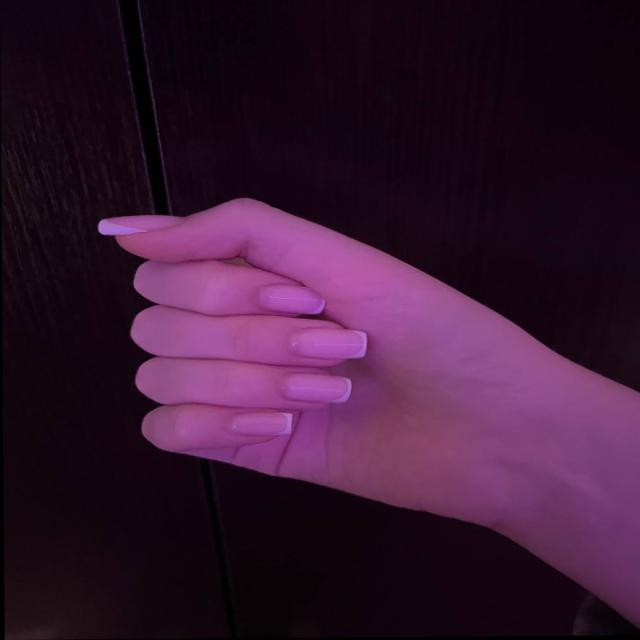a: (97, 187, 497, 534)
